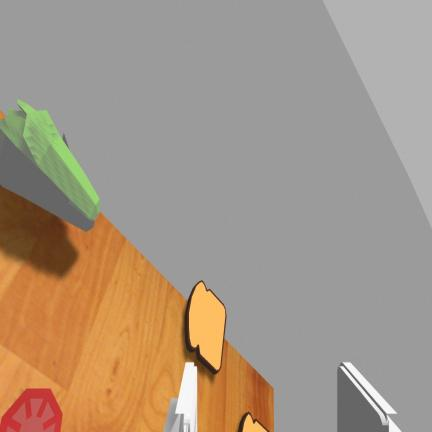lettuce: (0, 100, 100, 230)
sliced_bread: (185, 281, 226, 373), (238, 412, 269, 431)
sliced_tomato: (0, 389, 62, 431)
